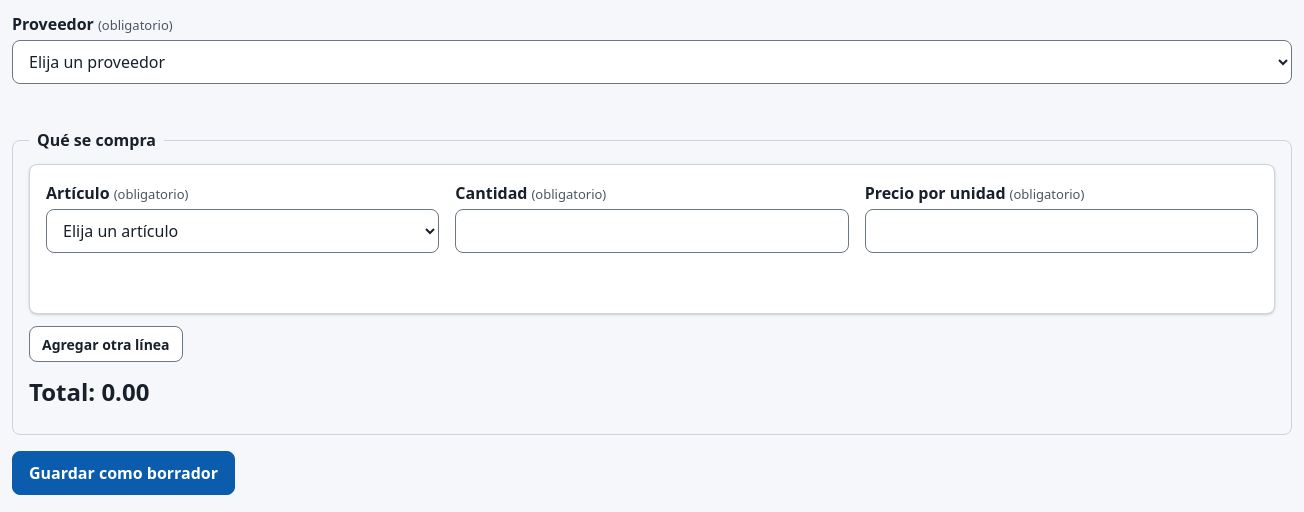
Test case: FormularioOrden › no envía una línea incompleta y dice qué falta
This screenshot has width=1304, height=512.
Select "Proveedor Uno" in the dropdown with test id "campo-proveedor" at (652, 62), box [12,40,1292,84]
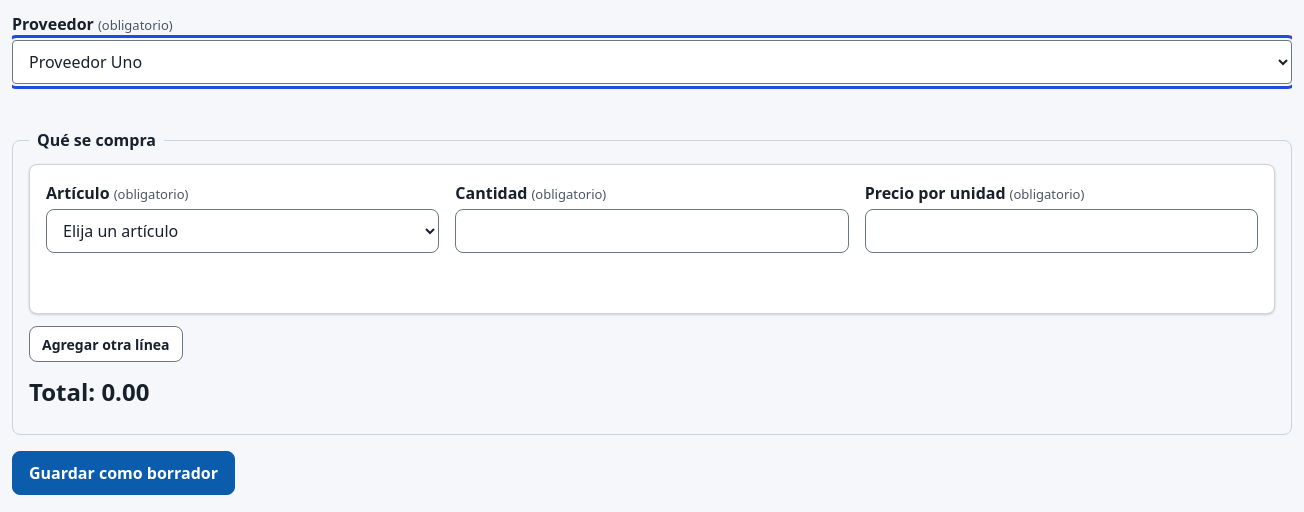
Click the button with test id "form-orden-enviar" at (124, 473), box [12,451,235,495]
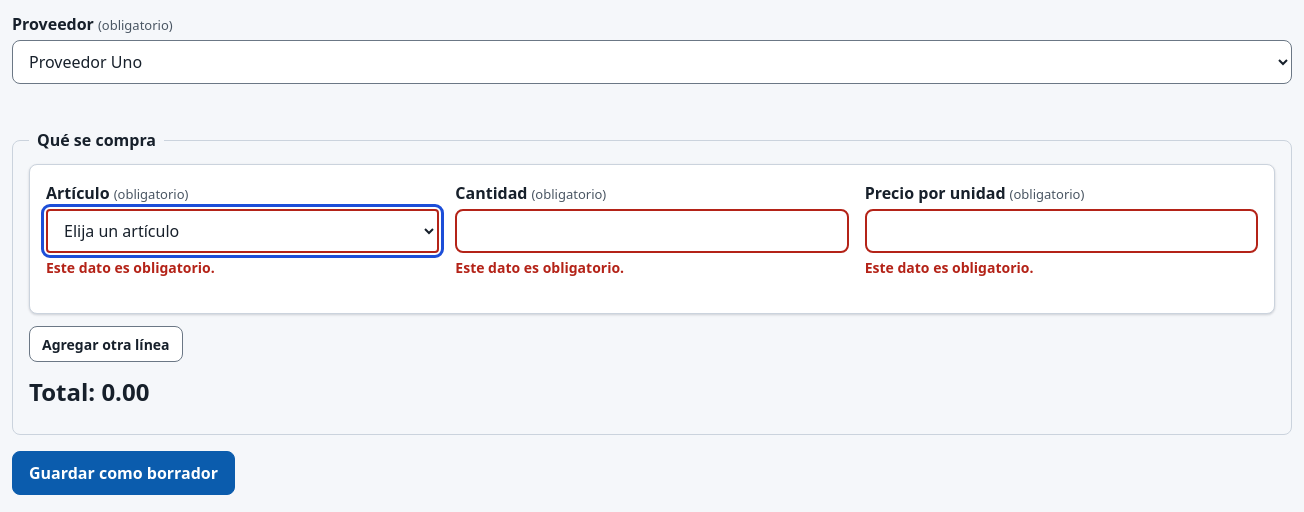
Expected: the message with test id "linea-0-sku-error" is shown, [46,258,215,277]
Expected: the message with test id "linea-0-cantidad-error" is shown, [455,258,624,277]
